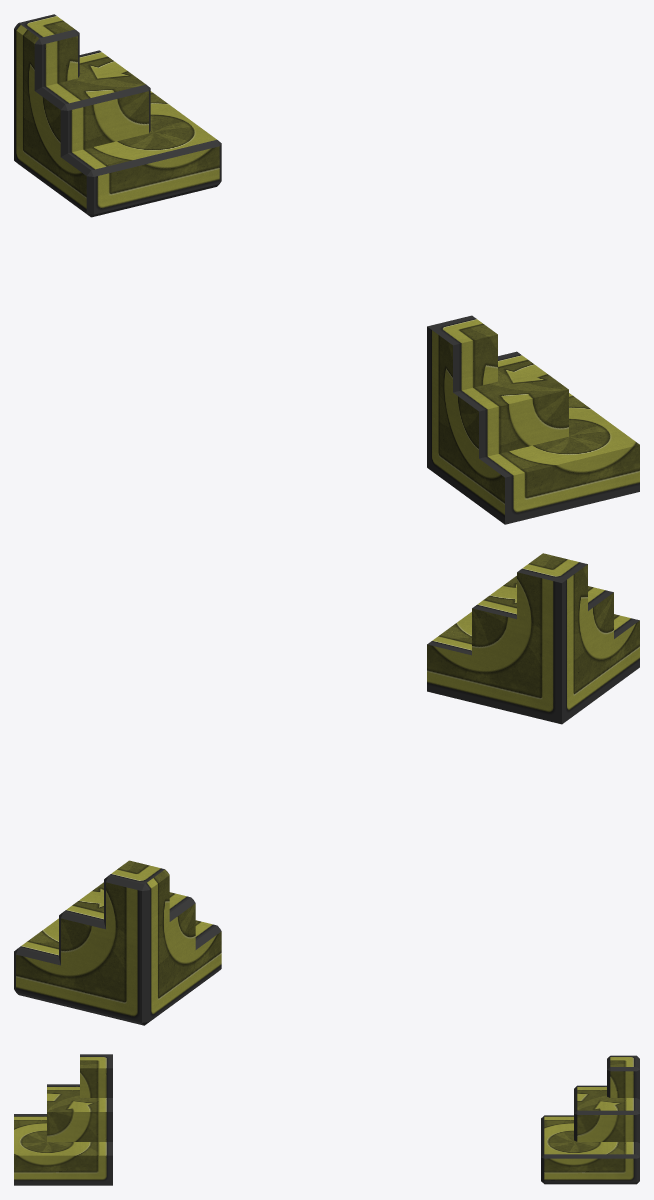
File: insetStep4.outsideCorner.fbx
3 views of the same model, one above another, from view 1: azimuth 30°, elevation 25°; view 2: azimuth 150°, elevation 25°; view 3: azimuth 270°, elevation 25° (orthographic). The views are drawn at different scales.
Visible parts, largest first — view 1: MESH insetStep4.outsideCorner, MESH insetStep4.outsideCorner.c; view 2: MESH insetStep4.outsideCorner, MESH insetStep4.outsideCorner.c; view 3: MESH insetStep4.outsideCorner, MESH insetStep4.outsideCorner.c.
Part boxes in pixels (bbox=[...]): MESH insetStep4.outsideCorner: bbox=[427, 315, 639, 524]; MESH insetStep4.outsideCorner.c: bbox=[14, 14, 221, 217]; MESH insetStep4.outsideCorner: bbox=[427, 553, 639, 724]; MESH insetStep4.outsideCorner.c: bbox=[14, 860, 221, 1025]; MESH insetStep4.outsideCorner: bbox=[14, 1054, 112, 1185]; MESH insetStep4.outsideCorner.c: bbox=[541, 1055, 639, 1184].
Size of the model in its own units: 75 by 75 by 475.
